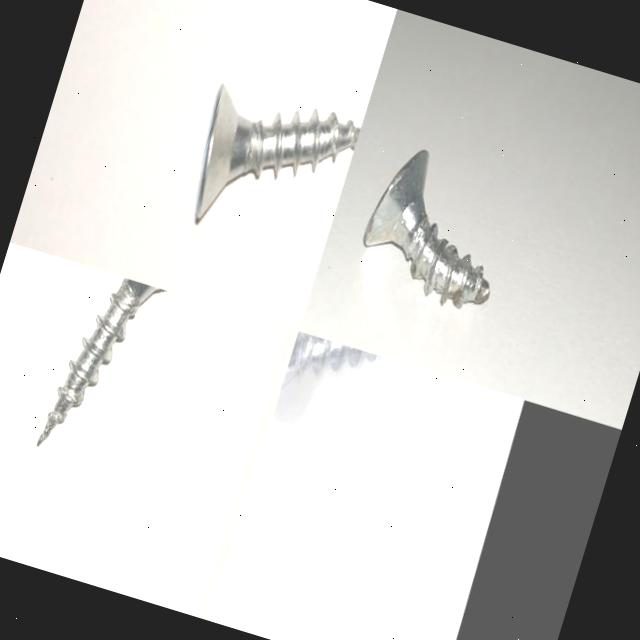Screw: (193, 83, 361, 222), (37, 278, 163, 446), (364, 149, 490, 307), (280, 331, 377, 390)
